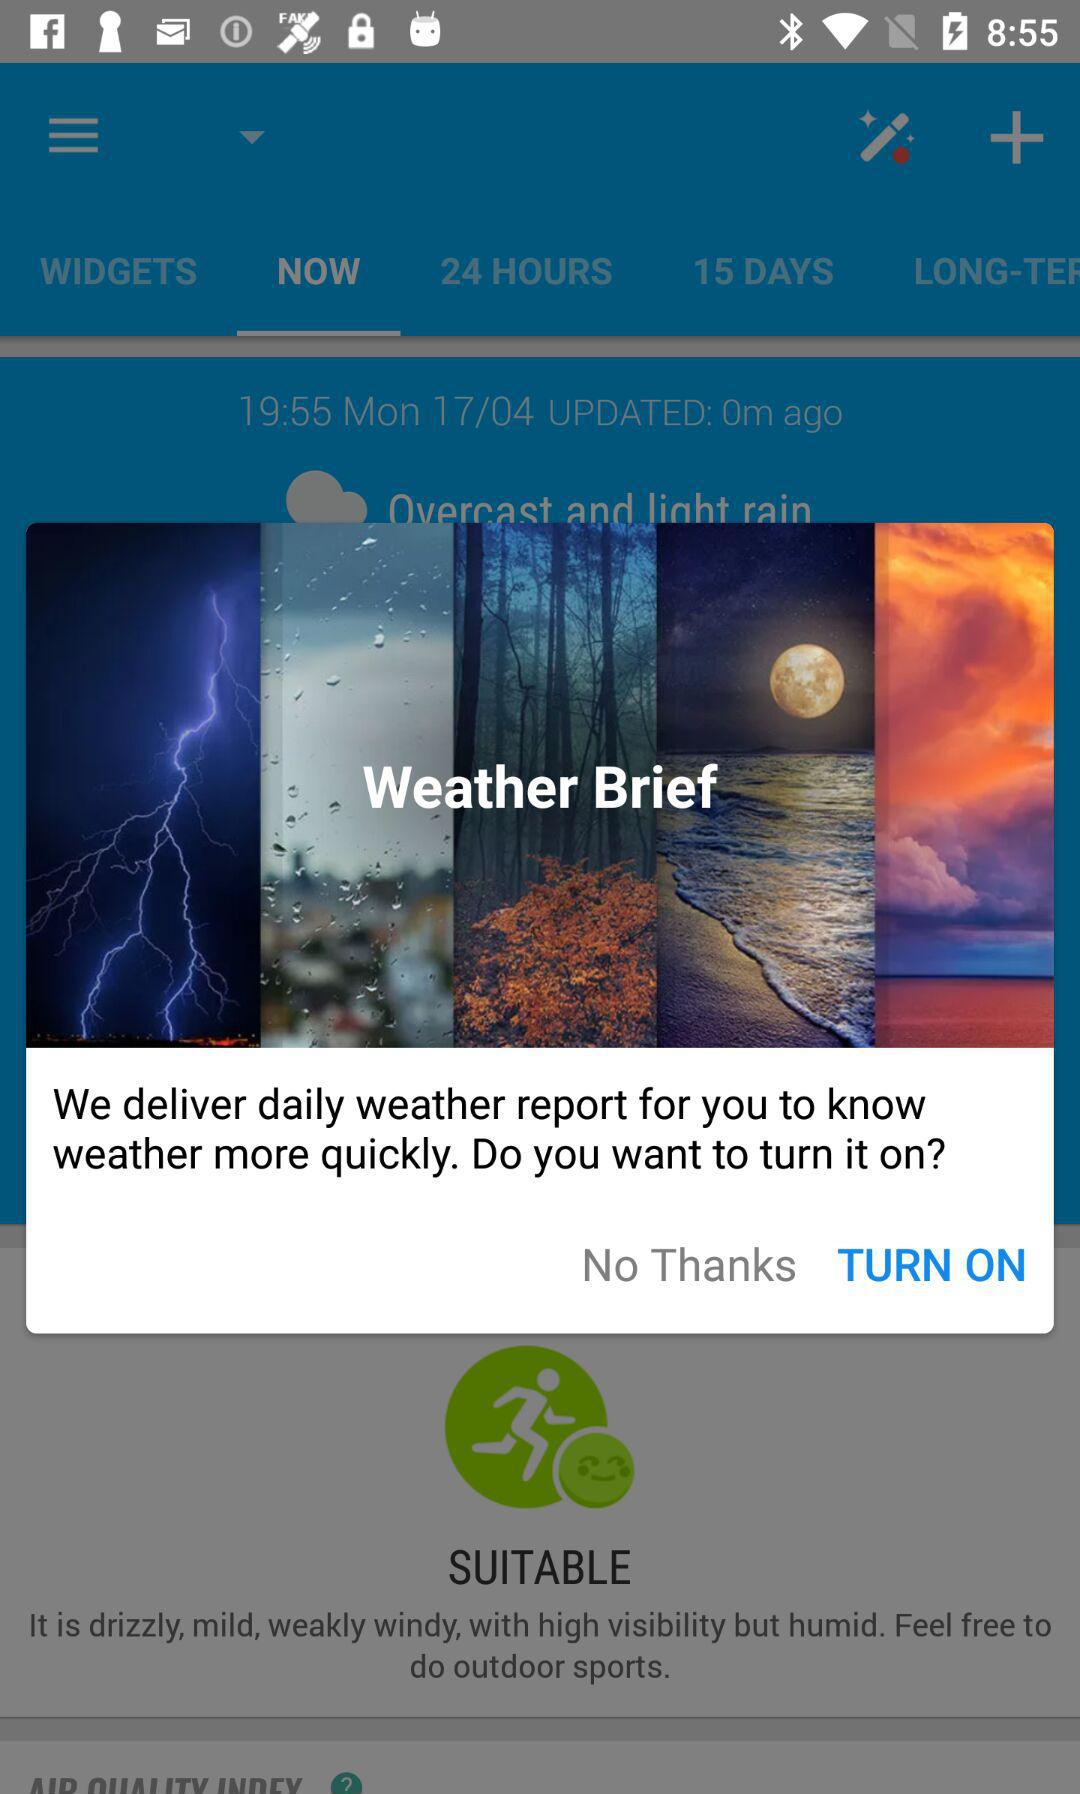Icon: (857, 110, 915, 167), (990, 111, 1044, 167), (49, 118, 101, 155), (240, 129, 266, 146)
Image: (27, 523, 1054, 1049), (445, 1345, 635, 1510)
Modal: (26, 523, 1054, 1335)
Text: (53, 1085, 945, 1181), (31, 1609, 1052, 1686), (241, 400, 842, 434), (363, 762, 720, 811), (584, 1246, 796, 1283), (450, 1549, 632, 1586), (837, 1247, 1025, 1283), (441, 258, 612, 287), (915, 258, 1080, 287), (41, 258, 199, 287), (694, 258, 834, 287), (278, 258, 361, 287)
UpperTaskBar: (1, 1, 1080, 64)
